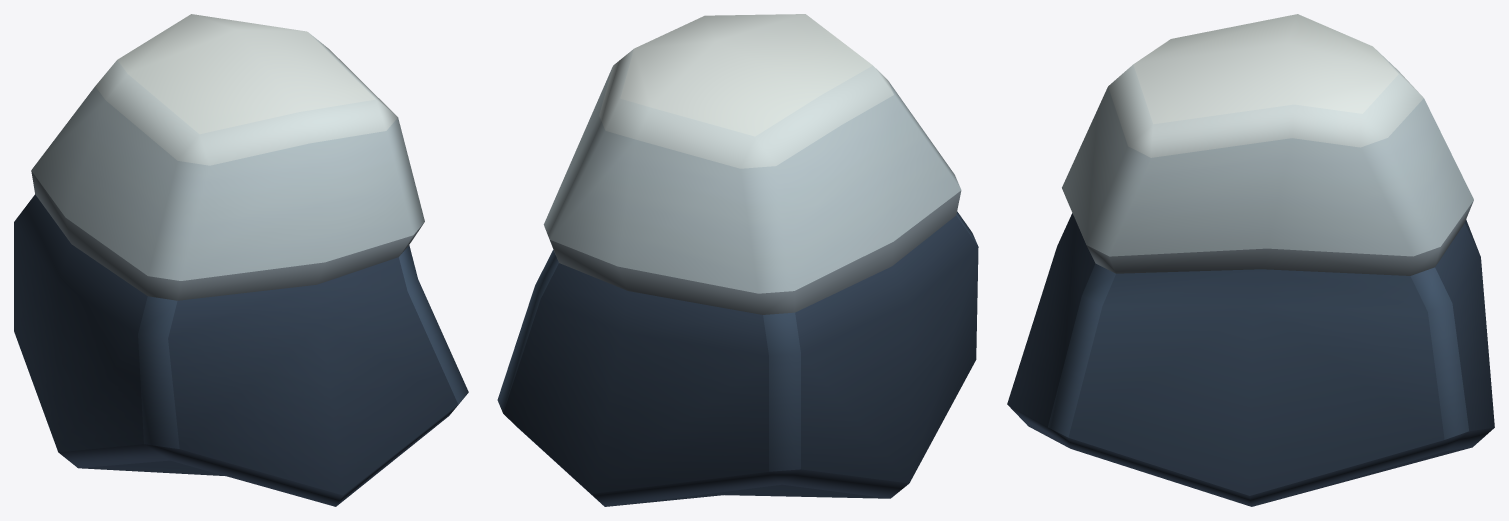
Rendered from rock_snow_04.fbx.
The picture shows the model from 3 angles, left to right: view 1: azimuth 30°, elevation 25°; view 2: azimuth 150°, elevation 25°; view 3: azimuth 270°, elevation 25°; orthographic projection. The views are drawn at different scales.
Parts seen in each view (by area): view 1: rock_snow_04; view 2: rock_snow_04; view 3: rock_snow_04.
Boxes of the visible parts, x1,y1,x2,y2 form: rock_snow_04: (14,14,468,506); rock_snow_04: (497,14,978,506); rock_snow_04: (1007,14,1494,506).
Size of the model in its own units: 82.62 by 111 by 107.
1 material, 1 textured.
